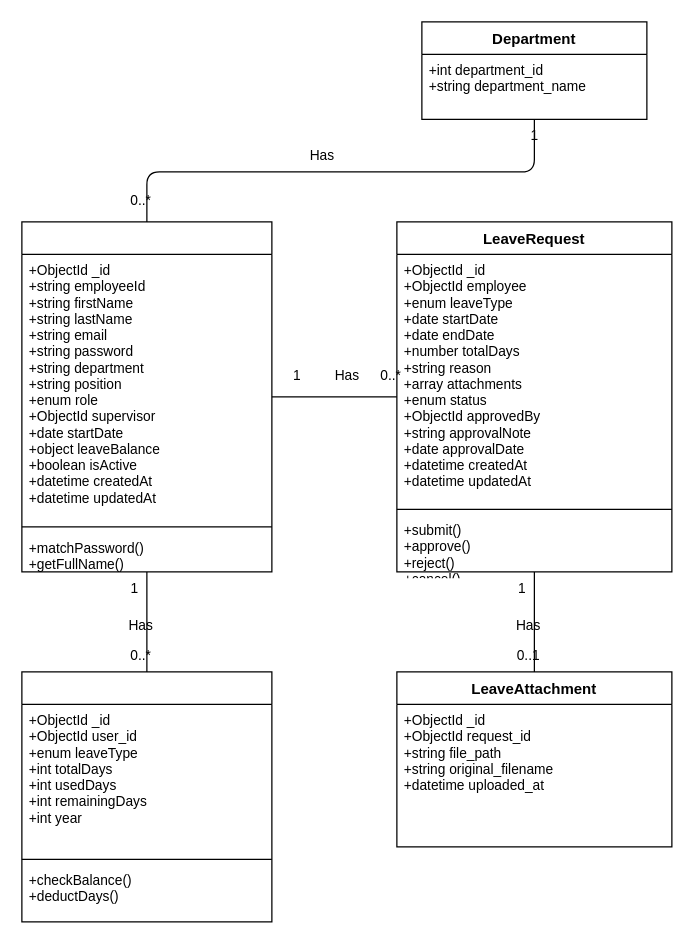
This 694x948 diagram has some shape labels left out. The box of each missing label's shape, as (x1, y1, x2, y2) in pixels:
LeaveBalance: (21, 671, 272, 922)
User: (21, 221, 272, 572)
